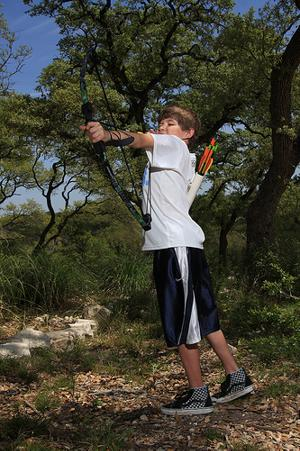person: (80, 97, 253, 416)
